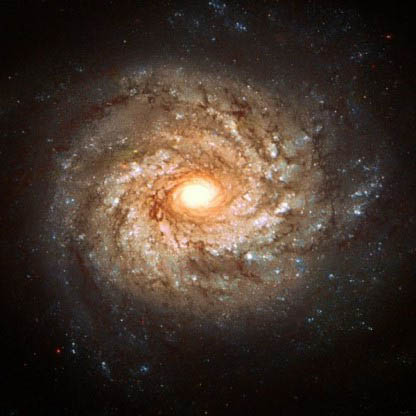NGC 3982: (14, 55, 390, 343)
